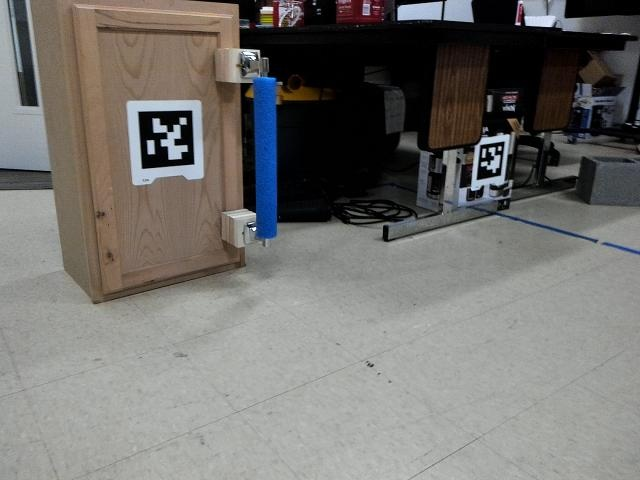noodle_handle: (245, 67, 281, 243)
